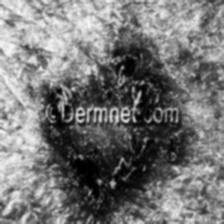Potentially Malignant Skin Tumors: (113, 52, 152, 100), (45, 78, 69, 108)
